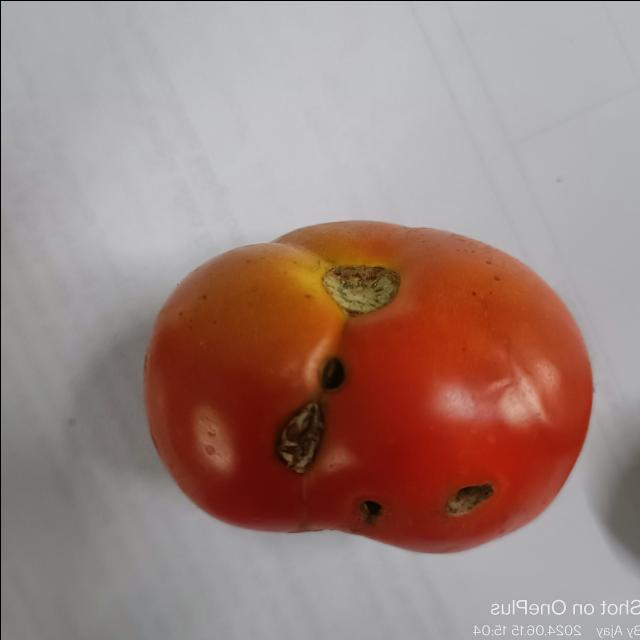fruitworm_bore: (274, 336, 348, 476), (434, 476, 498, 522), (356, 489, 386, 526)
